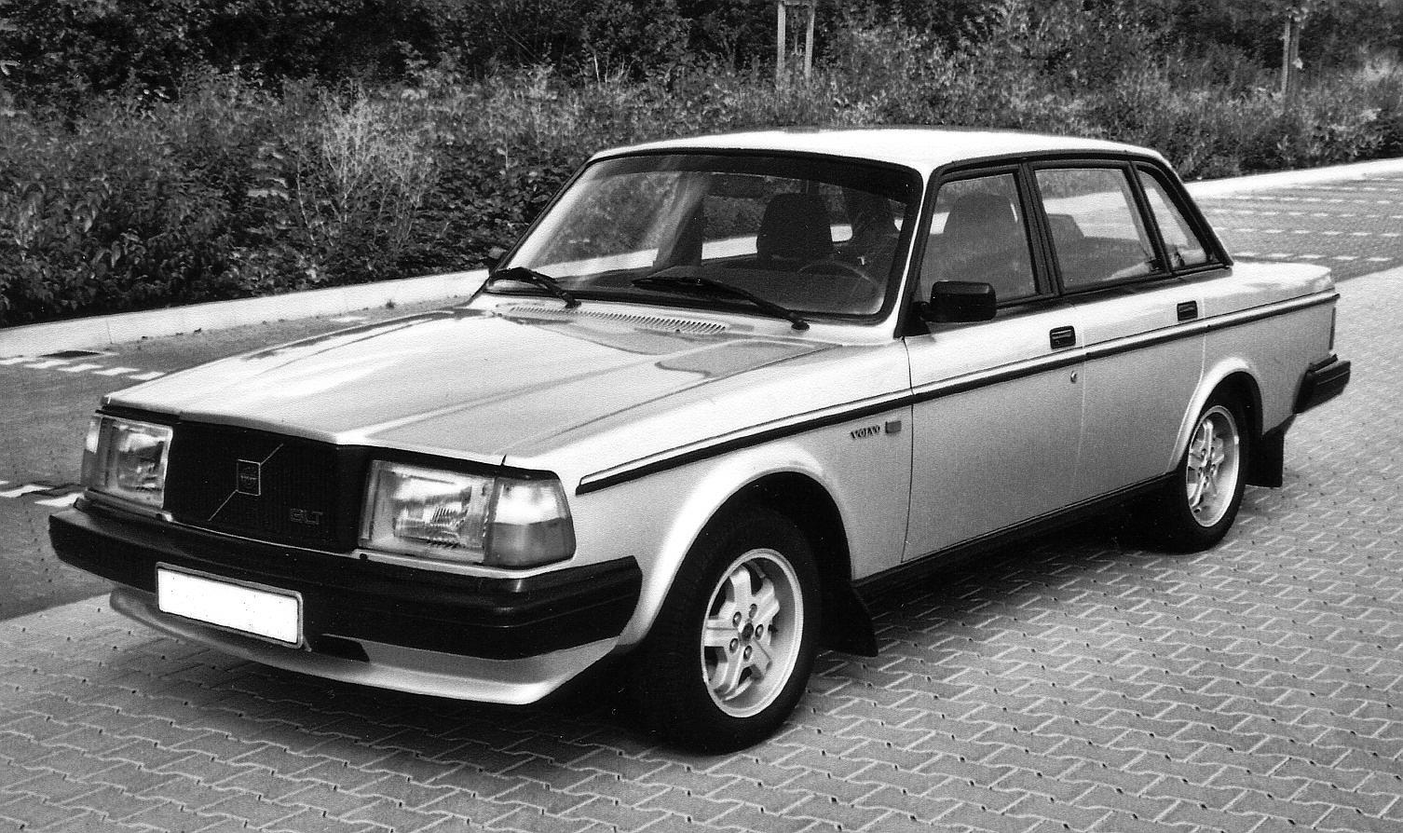car: (50, 126, 1361, 766)
